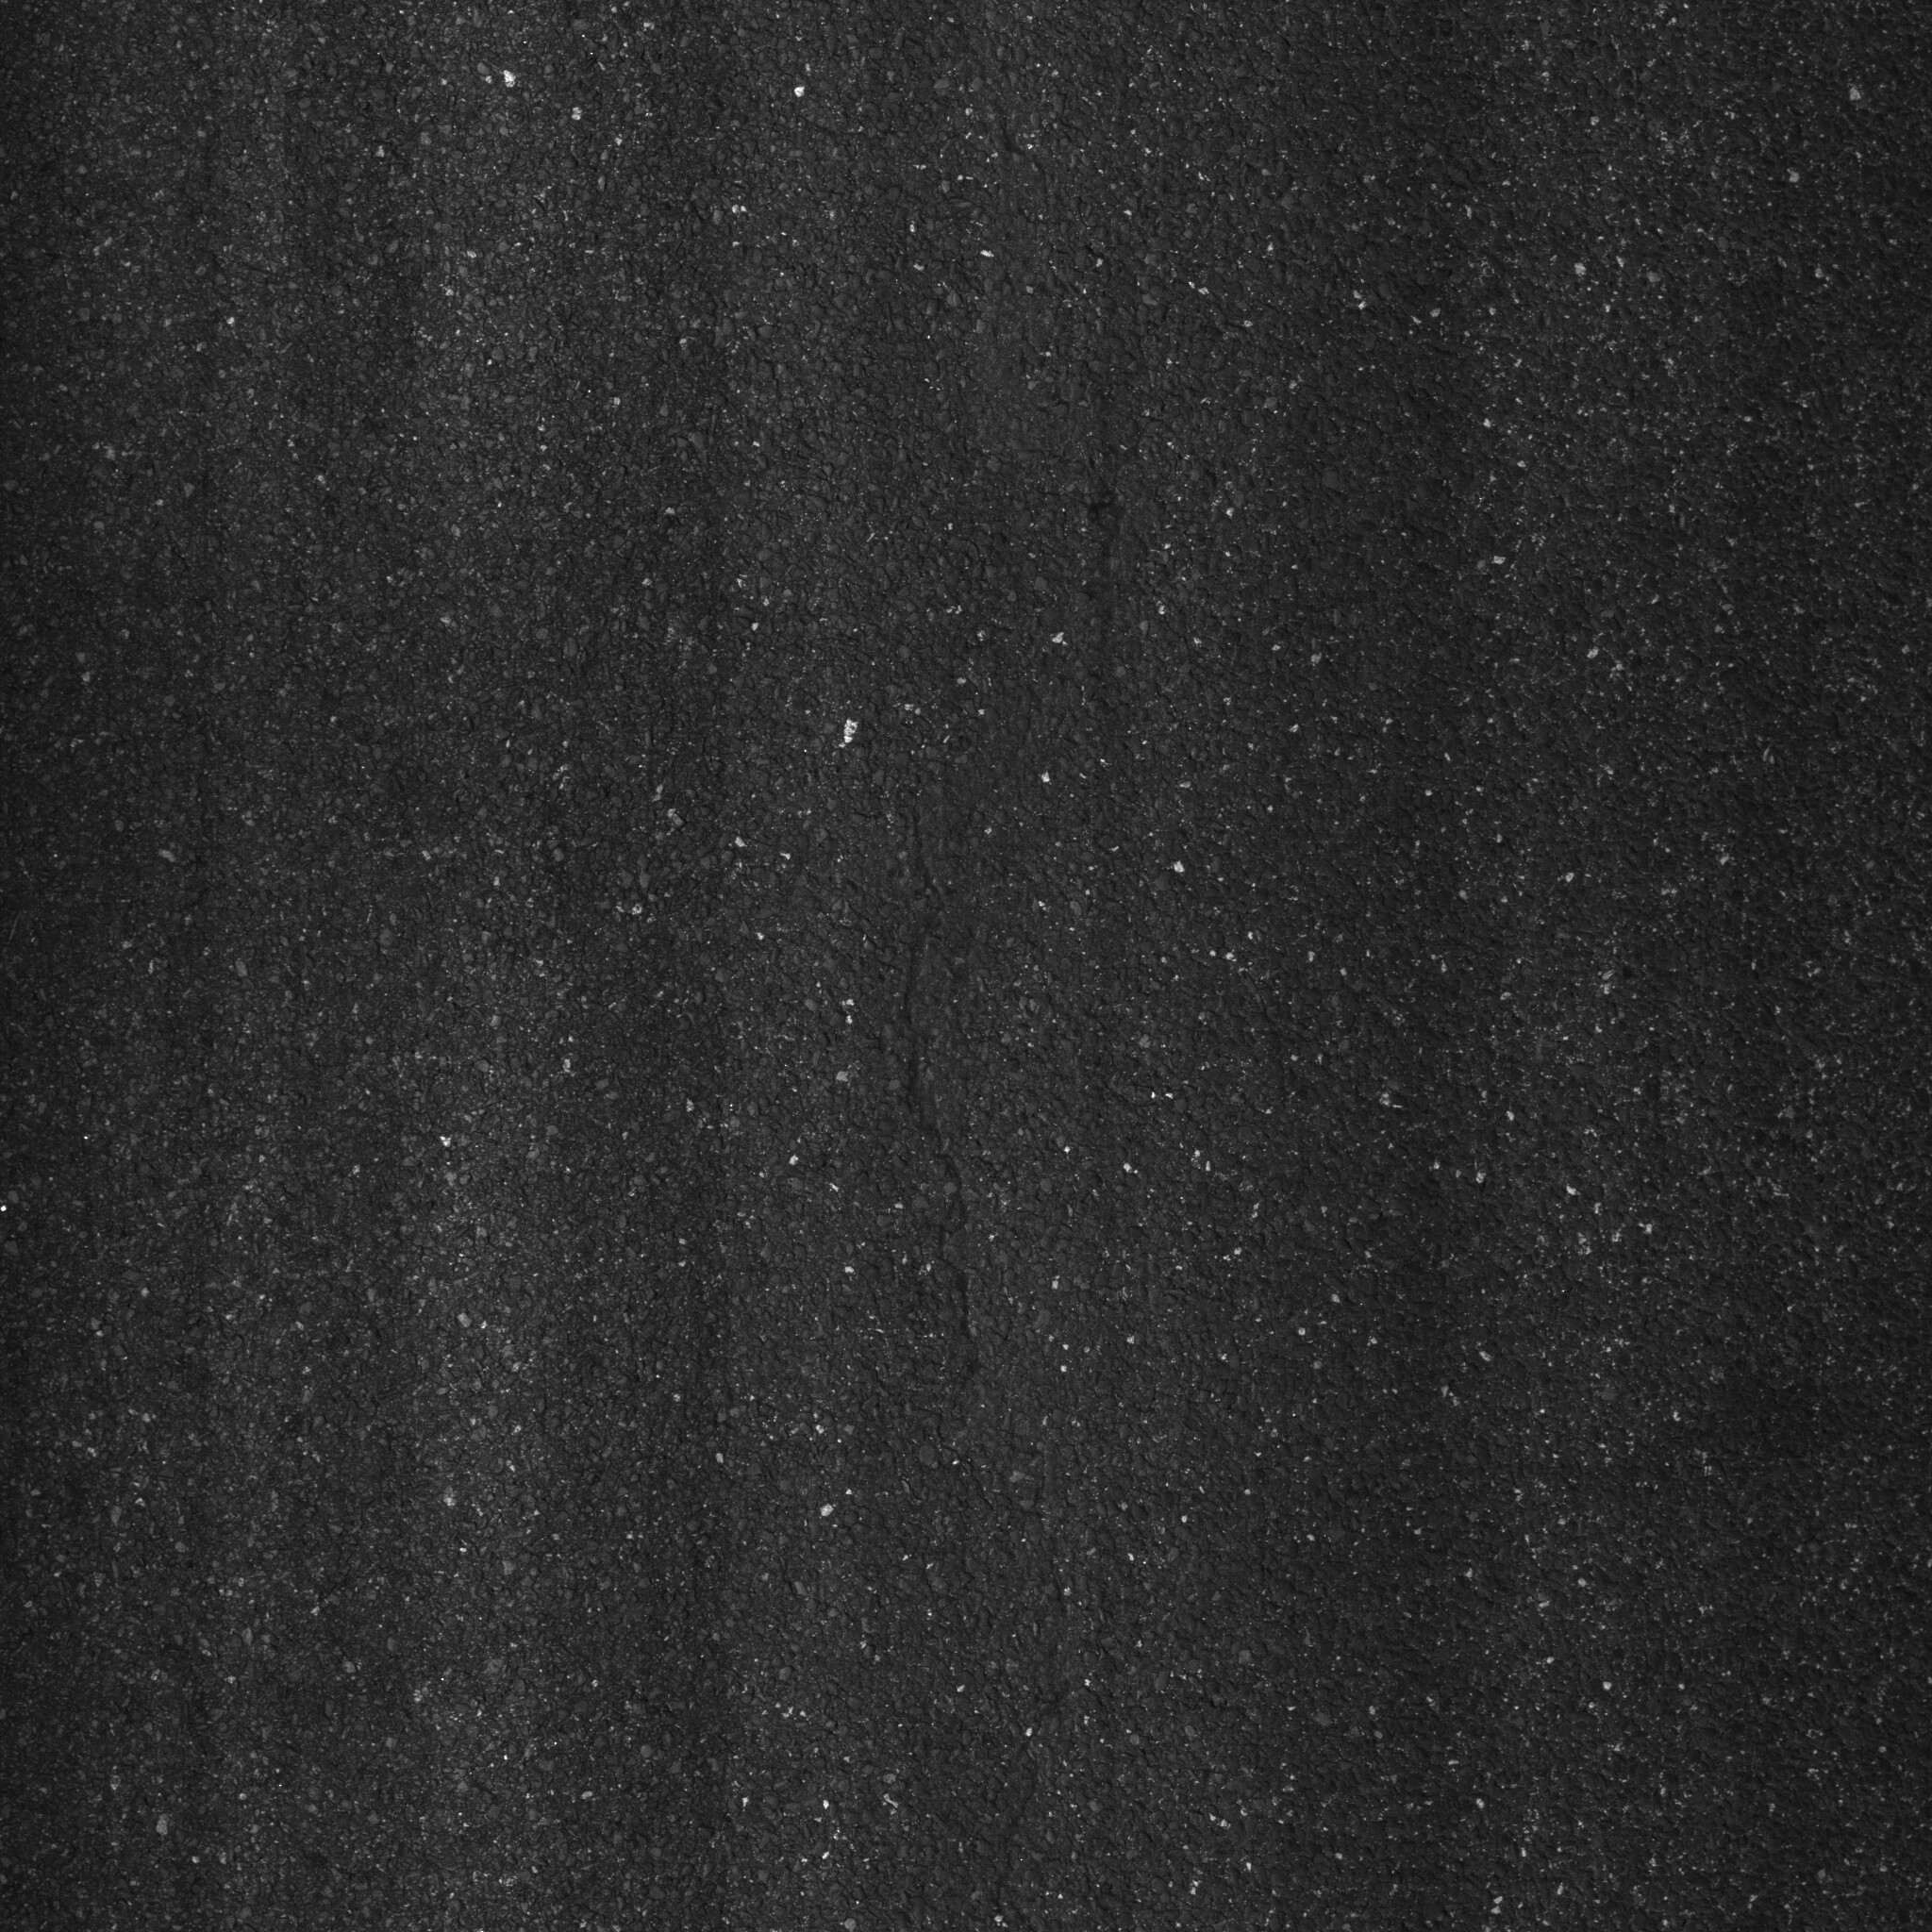longitudinal: (817, 658, 1037, 1491)
